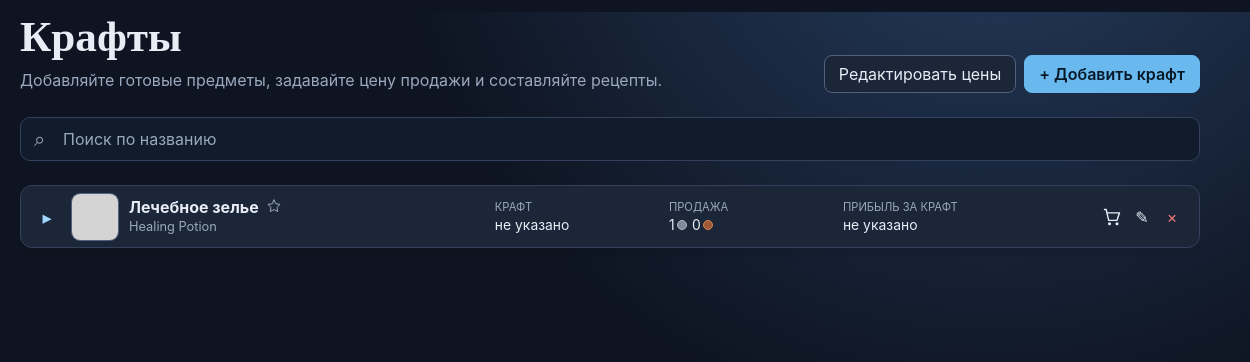
Test case: ItemsPage › меняет язык раскрытого дерева без потери раскрытия и показывает доступное имя без перевода
Step 1. Click the button with aria-label "Развернуть рецепт" → (95, 216), box [20, 185, 1200, 248]
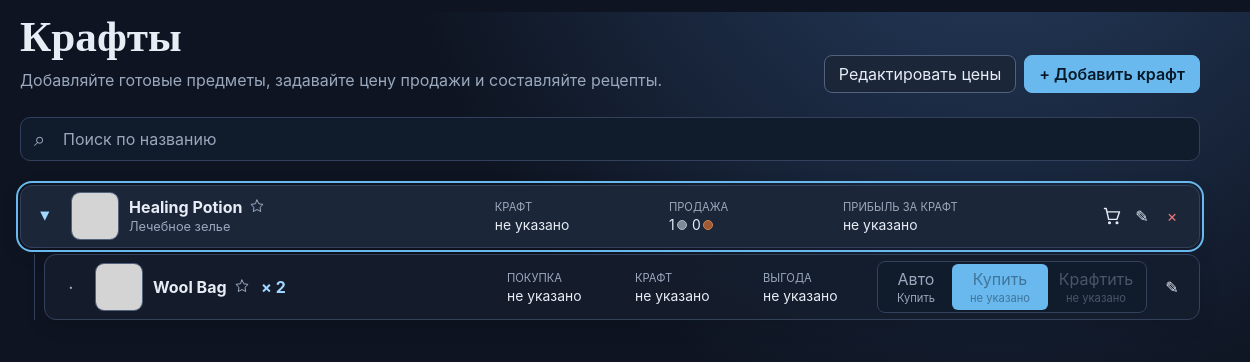
expect the text "Healing Potion" is shown: met, box [129, 197, 242, 217]
expect the text "Wool Bag" is shown: met, box [153, 277, 227, 297]
expect the button with aria-label "Свернуть рецепт" is shown: met, box [20, 185, 1200, 248]
